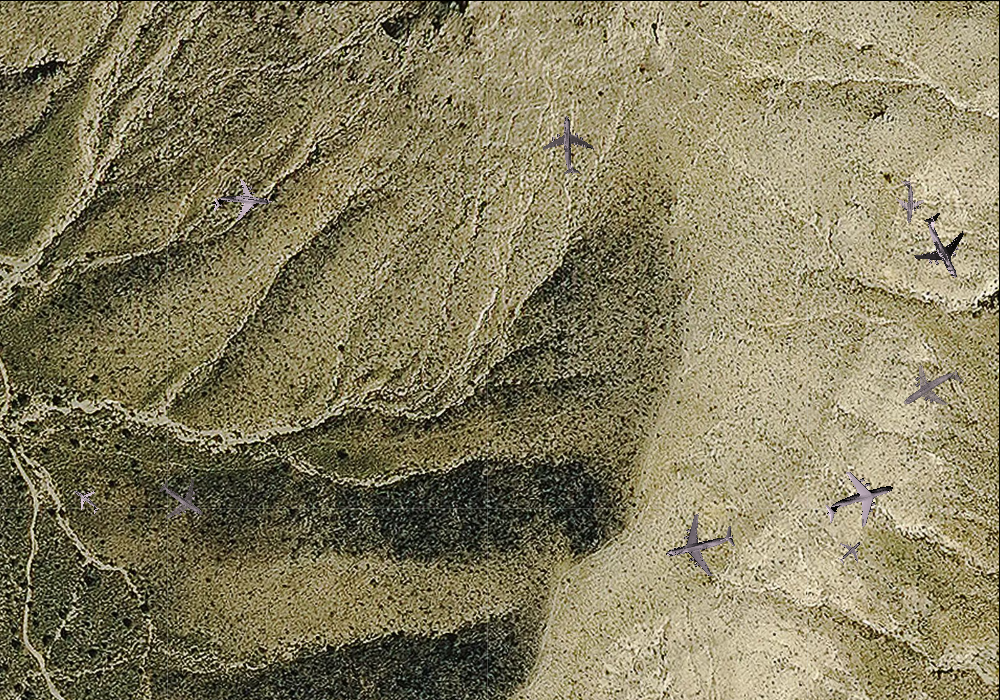plane: (899, 202, 986, 291), (816, 458, 903, 542), (890, 347, 975, 430), (658, 504, 742, 585), (147, 465, 216, 534), (540, 115, 598, 175), (210, 174, 273, 229), (888, 178, 927, 224), (65, 480, 106, 521), (831, 533, 870, 571)
